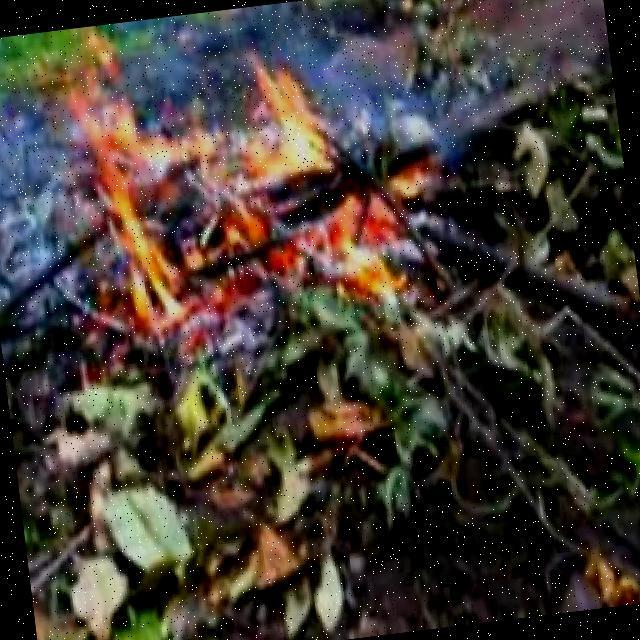Fire: (66, 30, 411, 328)
